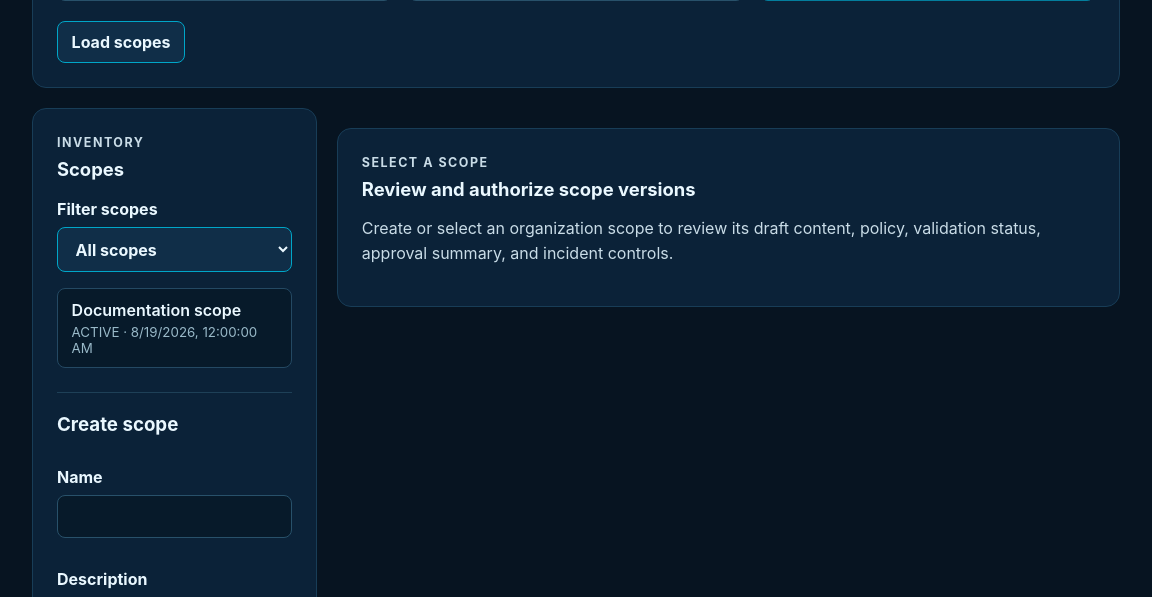
Test: ScopeAdmin › limits emergency stop to administrators and owners
(page scrolled)
Click the button "Documentation scope ACTIVE · 8/19/2026, 12:00:00 AM".
click(174, 328)  # box top-left (57, 288), bottom-right (292, 368)
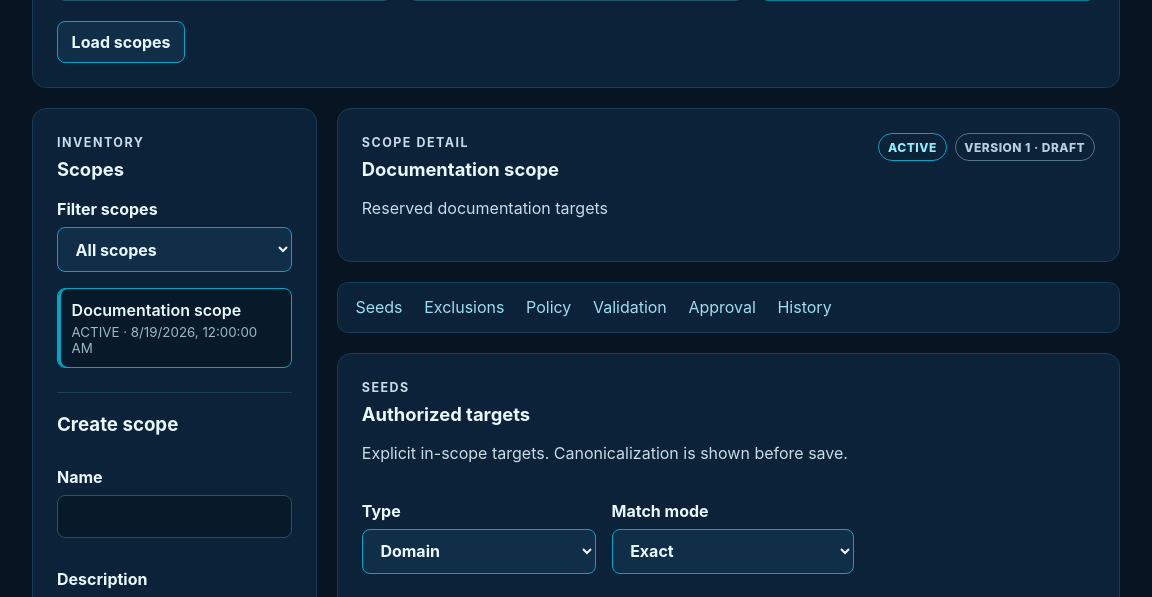
Result: the heading "Documentation scope" is shown at top-left (362, 158), bottom-right (559, 180)
